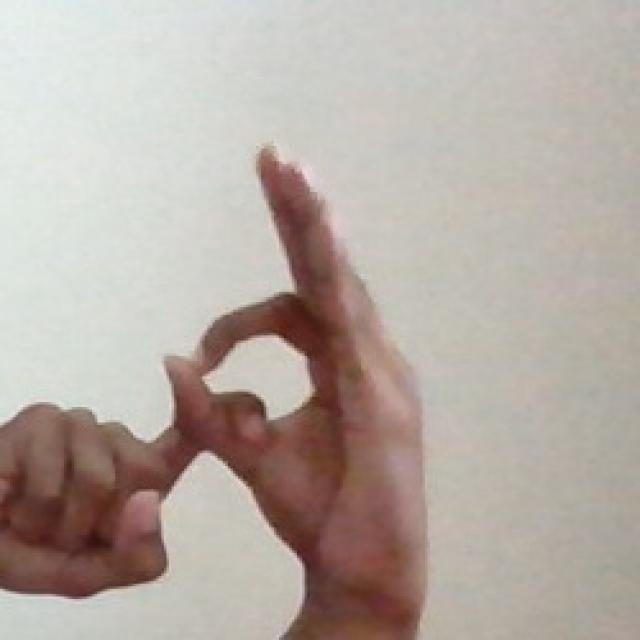Alphabet-Q: (0, 110, 443, 638)
